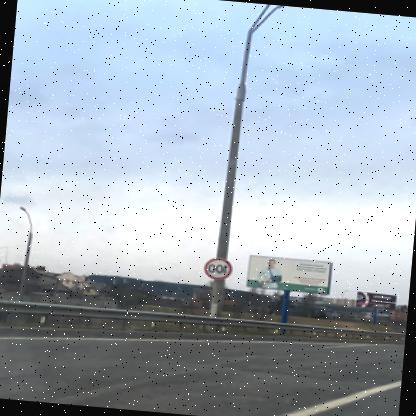speedlimit: (205, 257, 235, 280)
